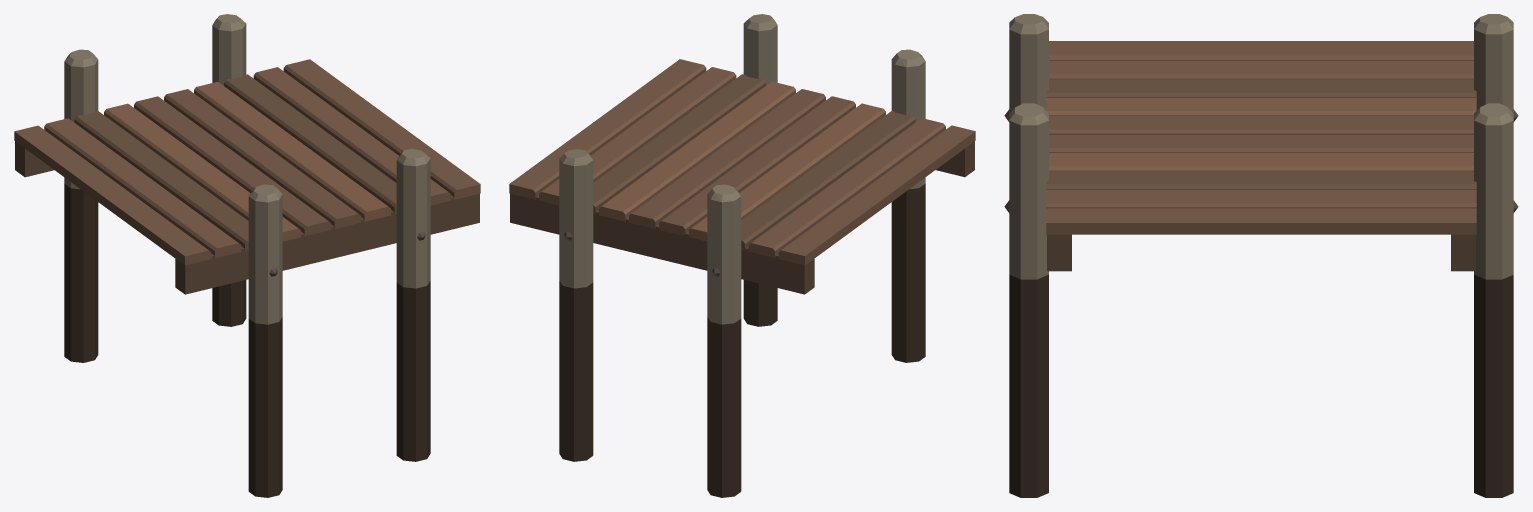
File: lake-dock-run-f5380e.glb
3 views of the same model, side by side, from view 1: azimuth 30°, elevation 25°; view 2: azimuth 150°, elevation 25°; view 3: azimuth 270°, elevation 25° (orthographic). The views are drawn at different scales.
Visible parts, largest first — view 1: dock; view 2: dock; view 3: dock.
Boxes of the visible parts, bbox=[...] form: dock: bbox=[14, 14, 480, 497]; dock: bbox=[509, 14, 975, 497]; dock: bbox=[1004, 14, 1518, 497].
Bounding box in the file's own units: 2 × 1.95 × 2.39.
